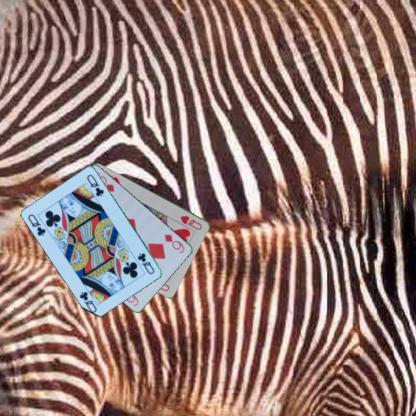6d: (162, 232, 186, 254)
Qc: (25, 212, 48, 238), (135, 250, 156, 276)
Qh: (178, 213, 203, 231)
